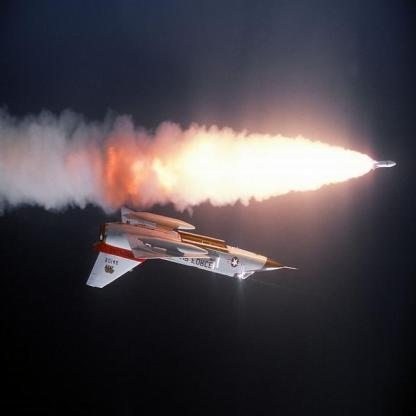MIL_TBM: (370, 160, 396, 168)
